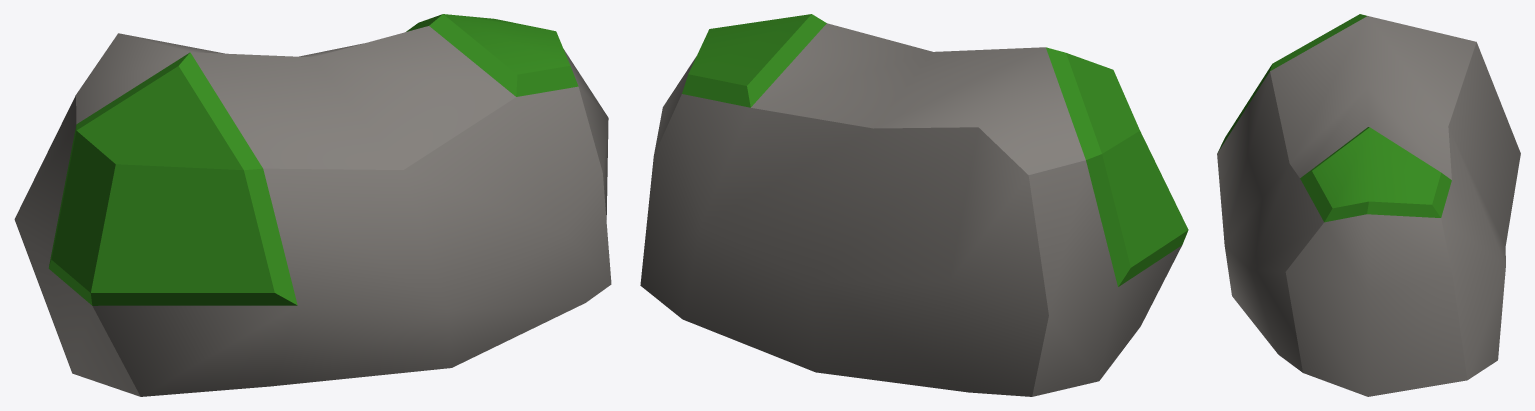
Rendered from Stone_02.fbx.
3 renders of one model, left to right at view 1: azimuth 30°, elevation 25°; view 2: azimuth 150°, elevation 25°; view 3: azimuth 270°, elevation 25°, orthographic. The views are drawn at different scales.
Visible parts, largest first — view 1: Stone_002; view 2: Stone_002; view 3: Stone_002.
Part boxes in pixels (x1,y1,x2,y2): Stone_002: (14,14,611,396); Stone_002: (640,14,1188,396); Stone_002: (1217,14,1520,396).
Bounding box in the file's own units: 89.62 × 53.26 × 57.72.
1 material, 1 textured.
